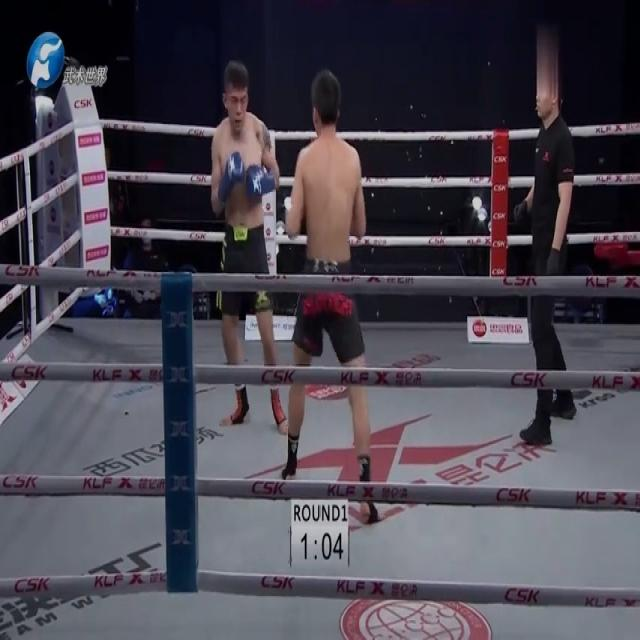fight: (206, 54, 376, 494)
non-fight: (511, 67, 578, 445)
